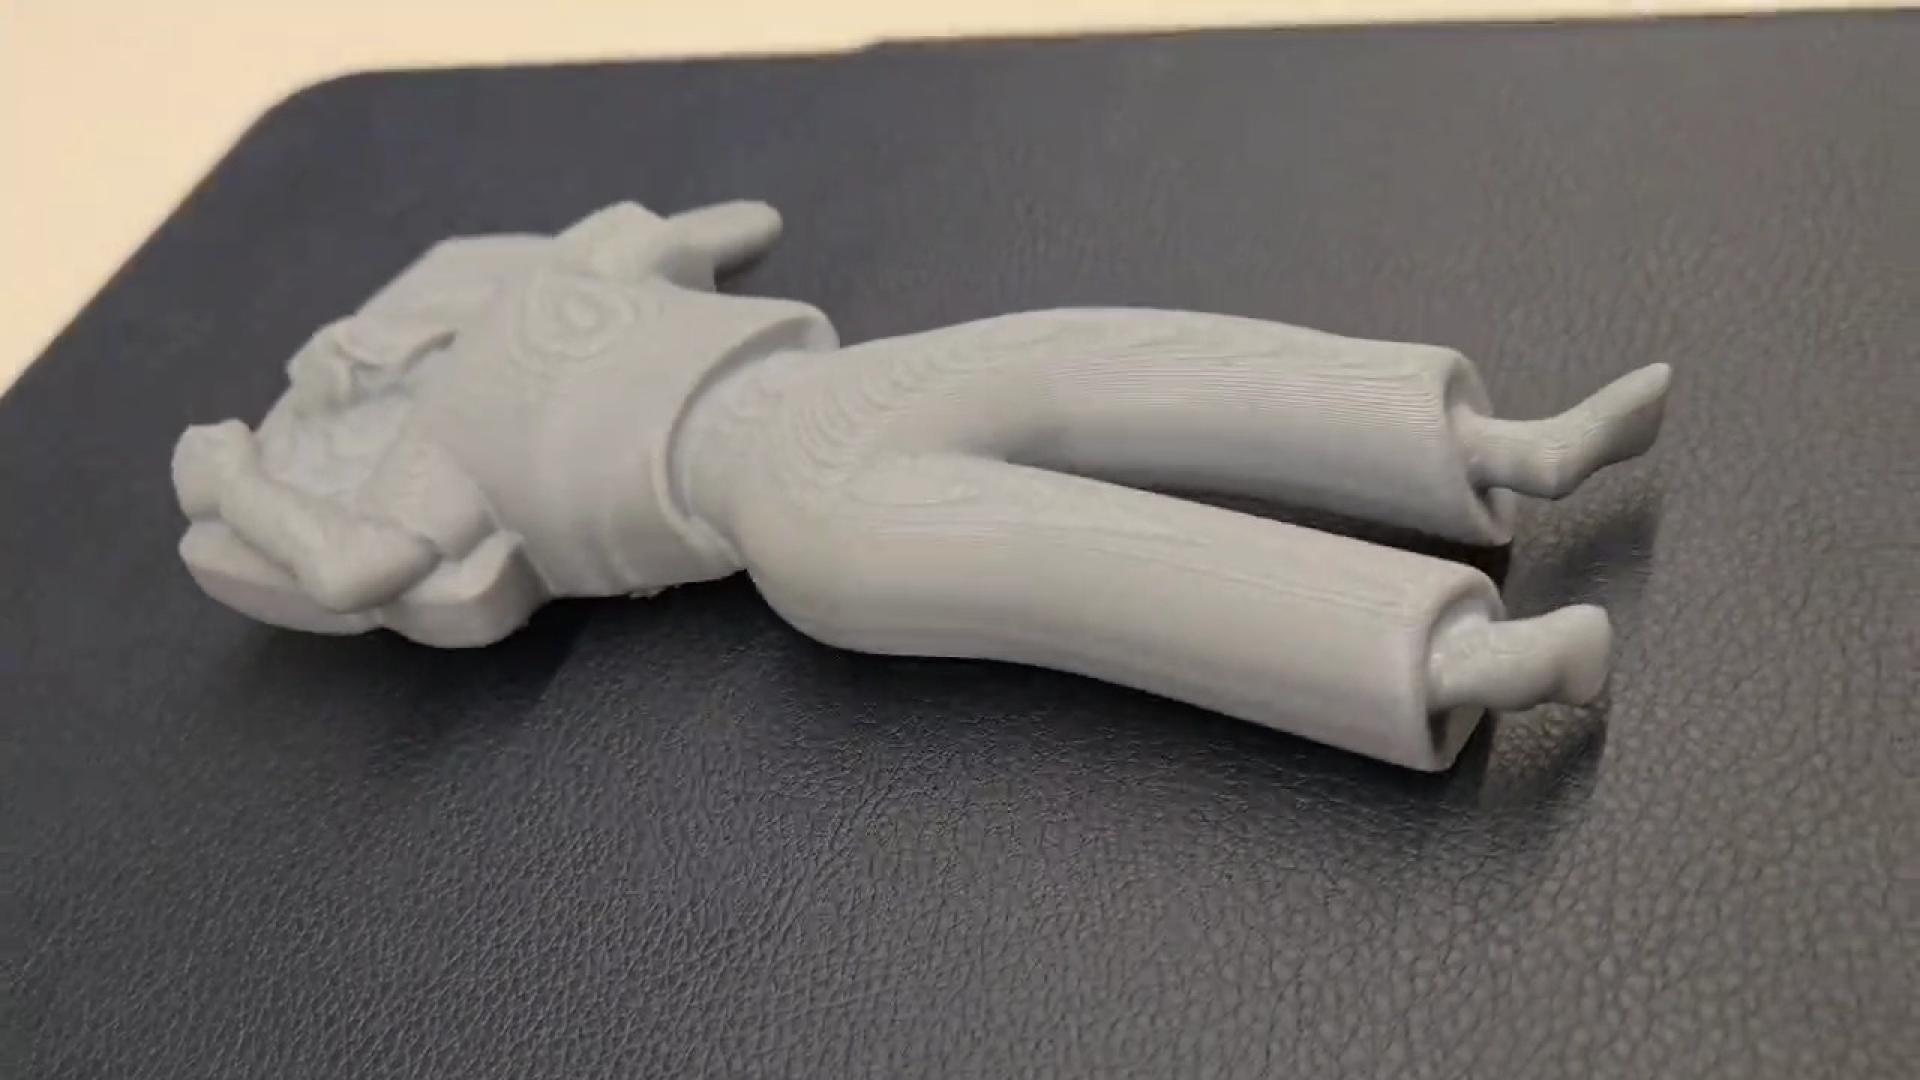Bad-style: (161, 198, 1680, 761)
